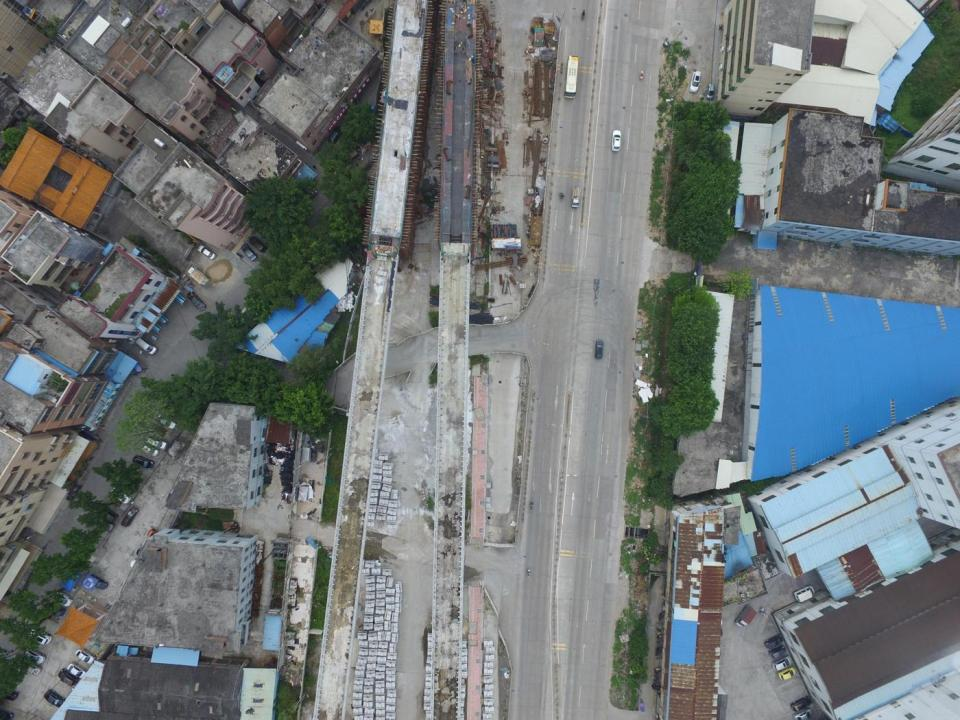bus: (563, 55, 579, 99)
car: (43, 688, 67, 709), (22, 648, 46, 665), (66, 662, 88, 680), (18, 660, 42, 676), (28, 628, 52, 644), (58, 668, 78, 687), (154, 414, 176, 431), (110, 488, 132, 505), (52, 591, 74, 608), (187, 290, 205, 310), (75, 648, 96, 665), (772, 655, 793, 672), (790, 695, 811, 712), (132, 455, 155, 470), (87, 574, 108, 590), (197, 243, 216, 260), (248, 236, 267, 253), (43, 603, 66, 617), (764, 634, 784, 650), (64, 483, 81, 501), (241, 243, 257, 262), (688, 70, 701, 92), (0, 687, 19, 702), (794, 706, 814, 720), (778, 665, 796, 680), (610, 129, 622, 151), (769, 645, 786, 658), (142, 444, 160, 456), (595, 339, 604, 360), (706, 83, 715, 100), (0, 710, 14, 720)
truck: (734, 604, 757, 628), (186, 265, 210, 286), (792, 585, 815, 602), (571, 186, 581, 208)
van: (135, 338, 158, 356), (145, 436, 168, 451), (121, 507, 137, 528)
